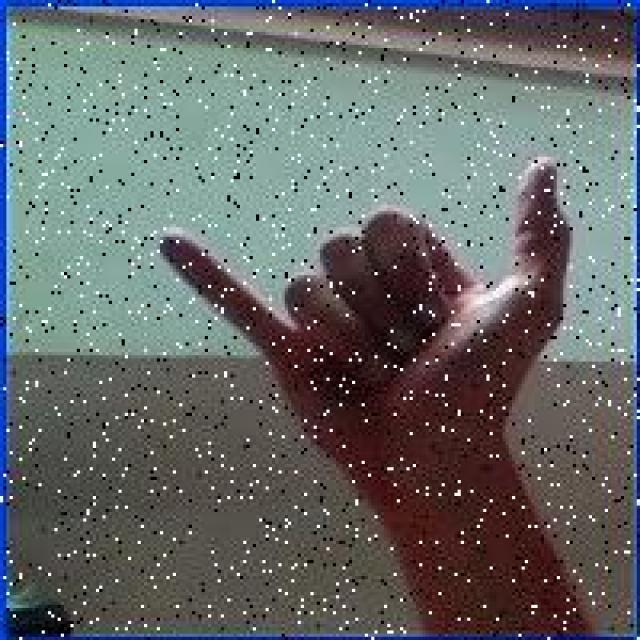Y: (152, 150, 578, 490)
